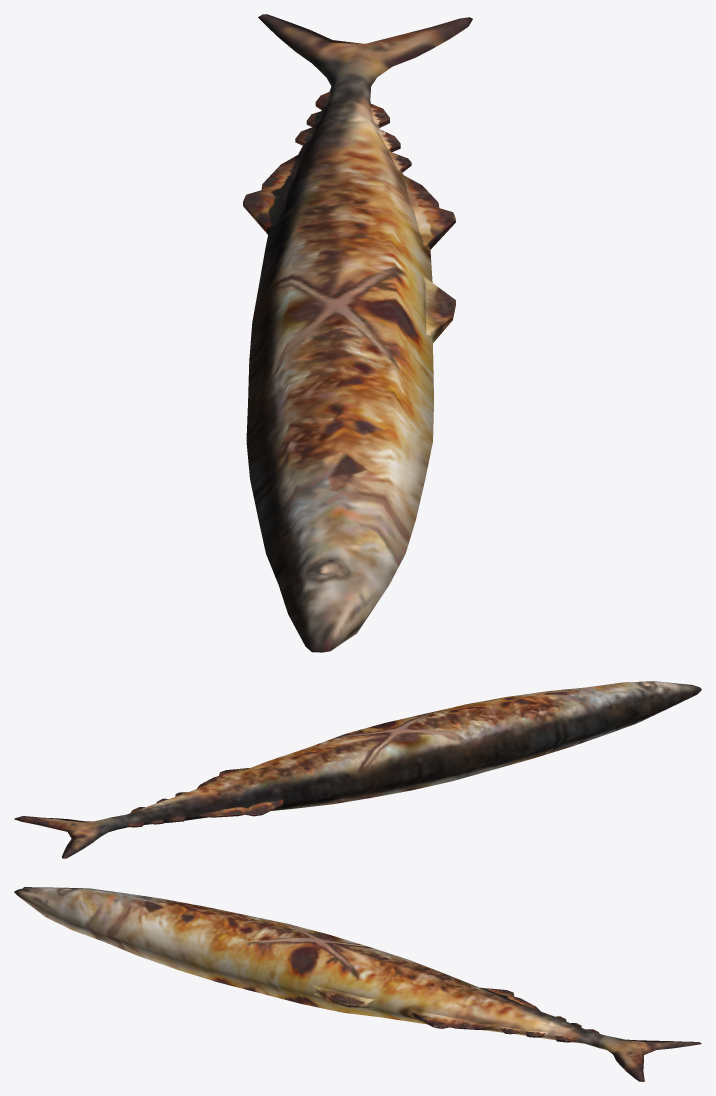
The model's file is GrilledFish2.obj.
3 views of the same model, one above another, from view 1: azimuth 30°, elevation 25°; view 2: azimuth 150°, elevation 25°; view 3: azimuth 270°, elevation 25° (orthographic). The views are drawn at different scales.
Parts seen in each view (by area): view 1: fish_Low; view 2: fish_Low; view 3: fish_Low.
Boxes of the visible parts, x1=… form: fish_Low: x1=243, y1=14, x2=472, y2=652; fish_Low: x1=14, y1=681, x2=701, y2=858; fish_Low: x1=14, y1=887, x2=701, y2=1081.
Bounding box in the file's own units: 2.54 × 0.3696 × 3.83.
